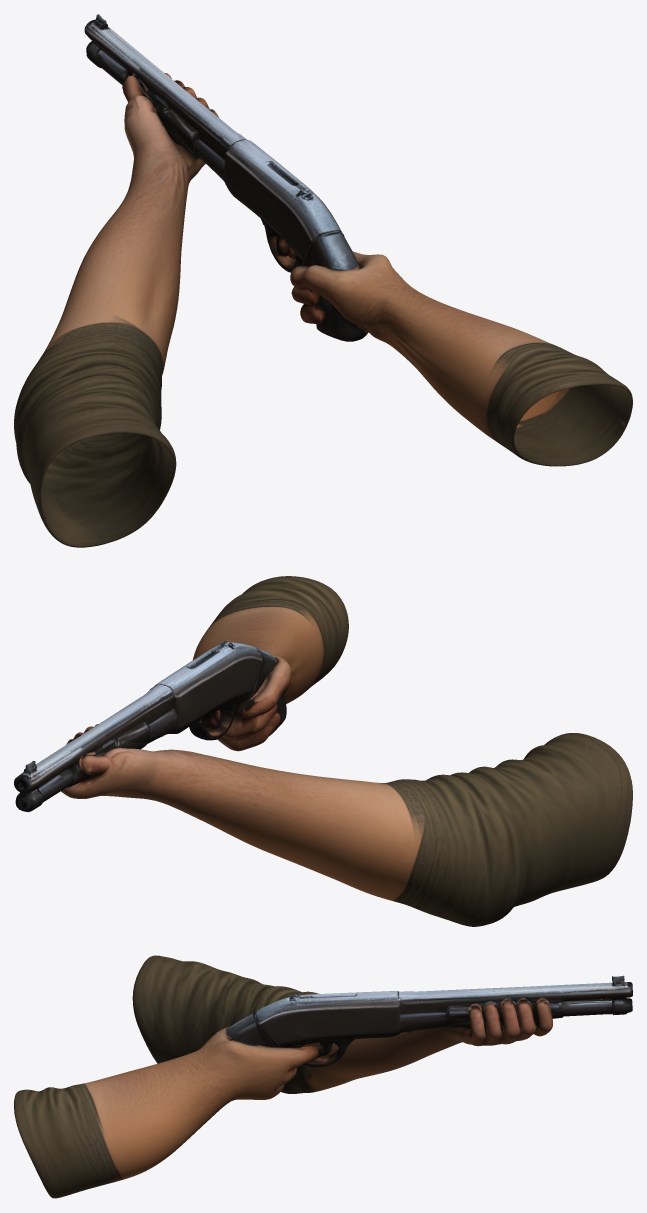
Rendered from shotgun_hand_lite.glb.
3 renders of one model, top to bottom at view 1: azimuth 30°, elevation 25°; view 2: azimuth 150°, elevation 25°; view 3: azimuth 270°, elevation 25°, orthographic. The views are drawn at different scales.
Parts seen in each view (by area): view 1: node_0; view 2: node_0; view 3: node_0.
Boxes of the visible parts, bbox=[...] form: node_0: bbox=[14, 14, 632, 547]; node_0: bbox=[14, 576, 632, 926]; node_0: bbox=[14, 955, 632, 1198].
Bounding box in the file's own units: 0.7437 × 0.3636 × 0.9965.
1 material, 1 textured.
